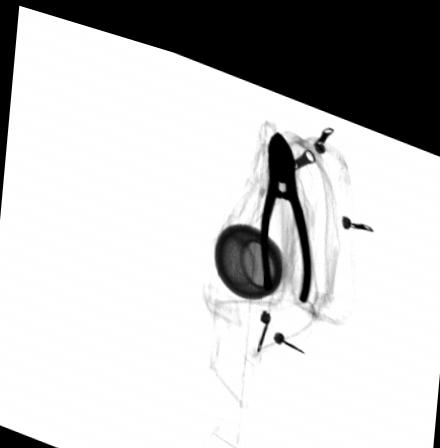Pliers: (259, 115, 312, 284)
